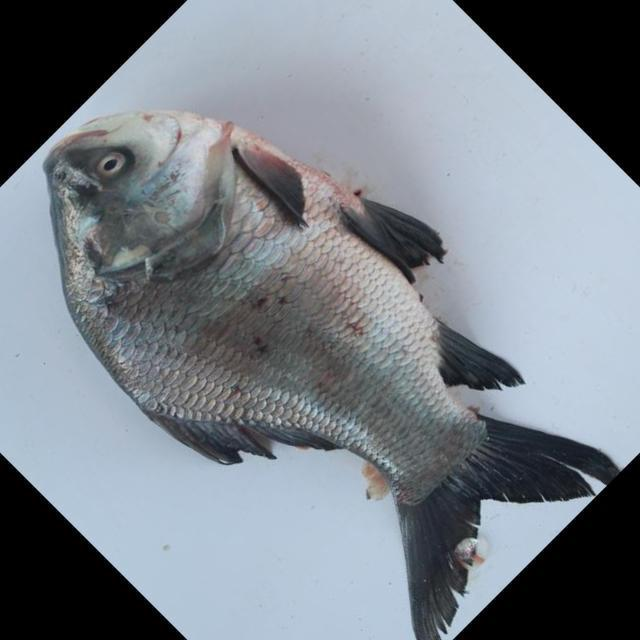Catla: (41, 108, 626, 640)
